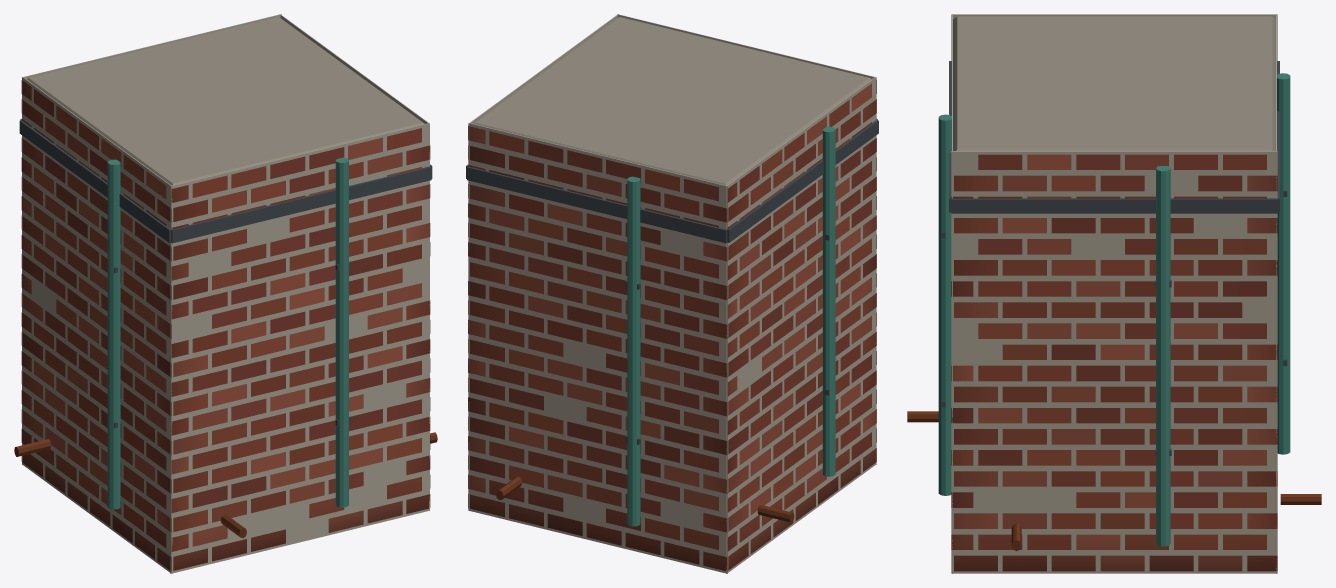
Rendered from wall_b.fbx.
3 views of the same model, side by side, from view 1: azimuth 30°, elevation 25°; view 2: azimuth 150°, elevation 25°; view 3: azimuth 270°, elevation 25° (orthographic). The views are drawn at different scales.
Parts seen in each view (by area): view 1: wall_b; view 2: wall_b; view 3: wall_b.
Part boxes in pixels (<box>): wall_b: <box>14,14,437,573</box>; wall_b: <box>466,14,878,573</box>; wall_b: <box>907,14,1321,573</box>.
Size of the model in its own units: 4 by 4.5 by 4.
